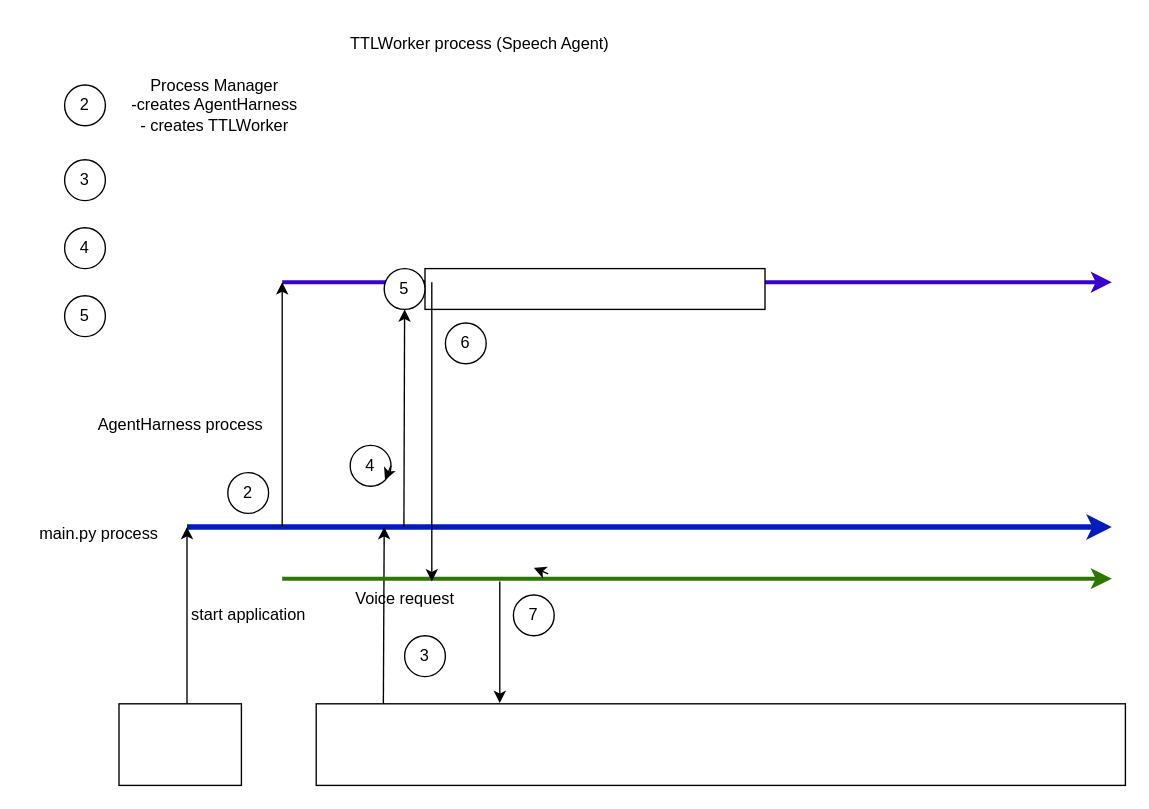
Image size: 1149x809. Some labels were removed from this diagram. Here are the shapes that lost their labels. From the top down, the centre of each, then its label:
(594,288): Agent Execution
(179,743): Container
(720,743): UI / TUI / GUI
